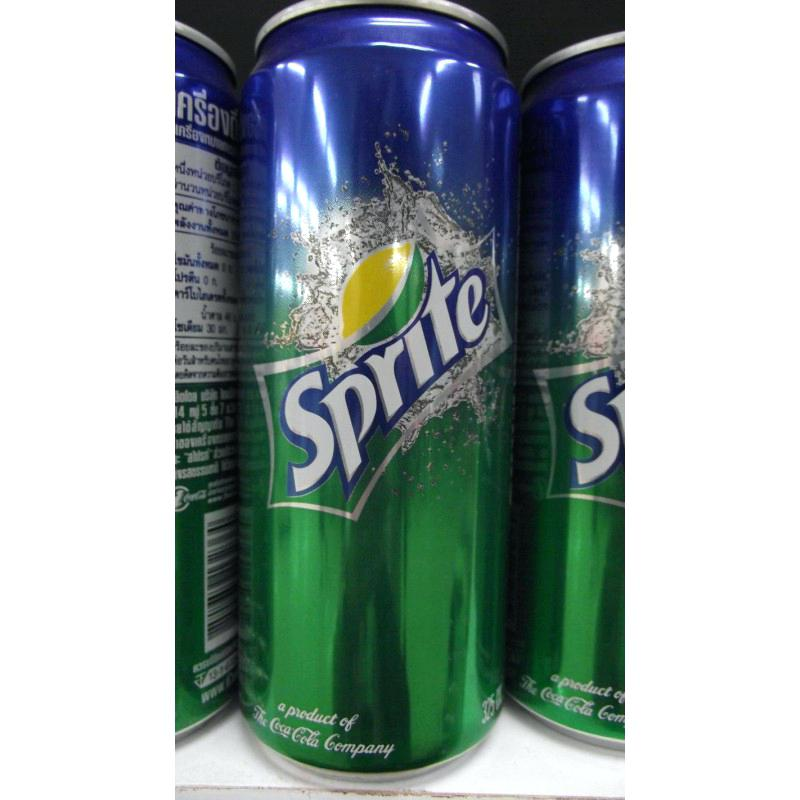sprite: (283, 255, 488, 495), (283, 255, 488, 492)
